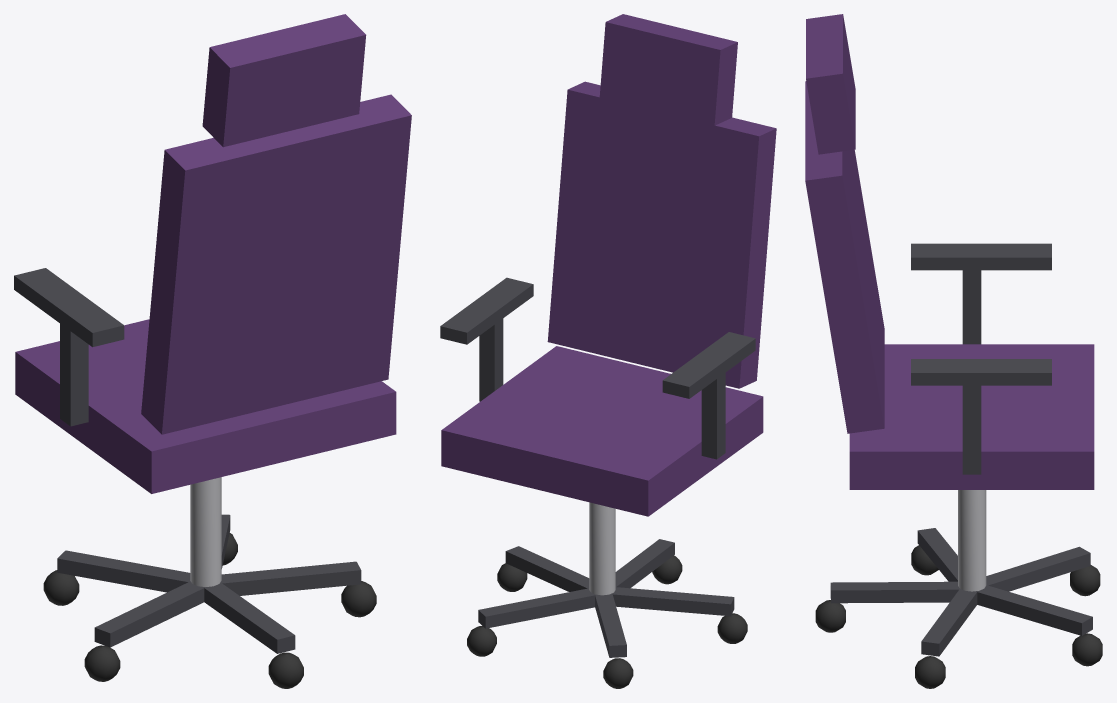
File: zidle.glb
The picture shows the model from 3 angles, left to right: view 1: azimuth 30°, elevation 25°; view 2: azimuth 150°, elevation 25°; view 3: azimuth 270°, elevation 25°; orthographic projection. The views are drawn at different scales.
Visible parts, largest first — view 1: zidle_telo; view 2: zidle_telo; view 3: zidle_telo.
Boxes of the visible parts, left/top/right/bottom form: zidle_telo: left=14, top=14, right=411, bottom=688; zidle_telo: left=440, top=14, right=776, bottom=688; zidle_telo: left=805, top=14, right=1102, bottom=688.
Size of the model in its own units: 0.65 by 1.37 by 0.632.
